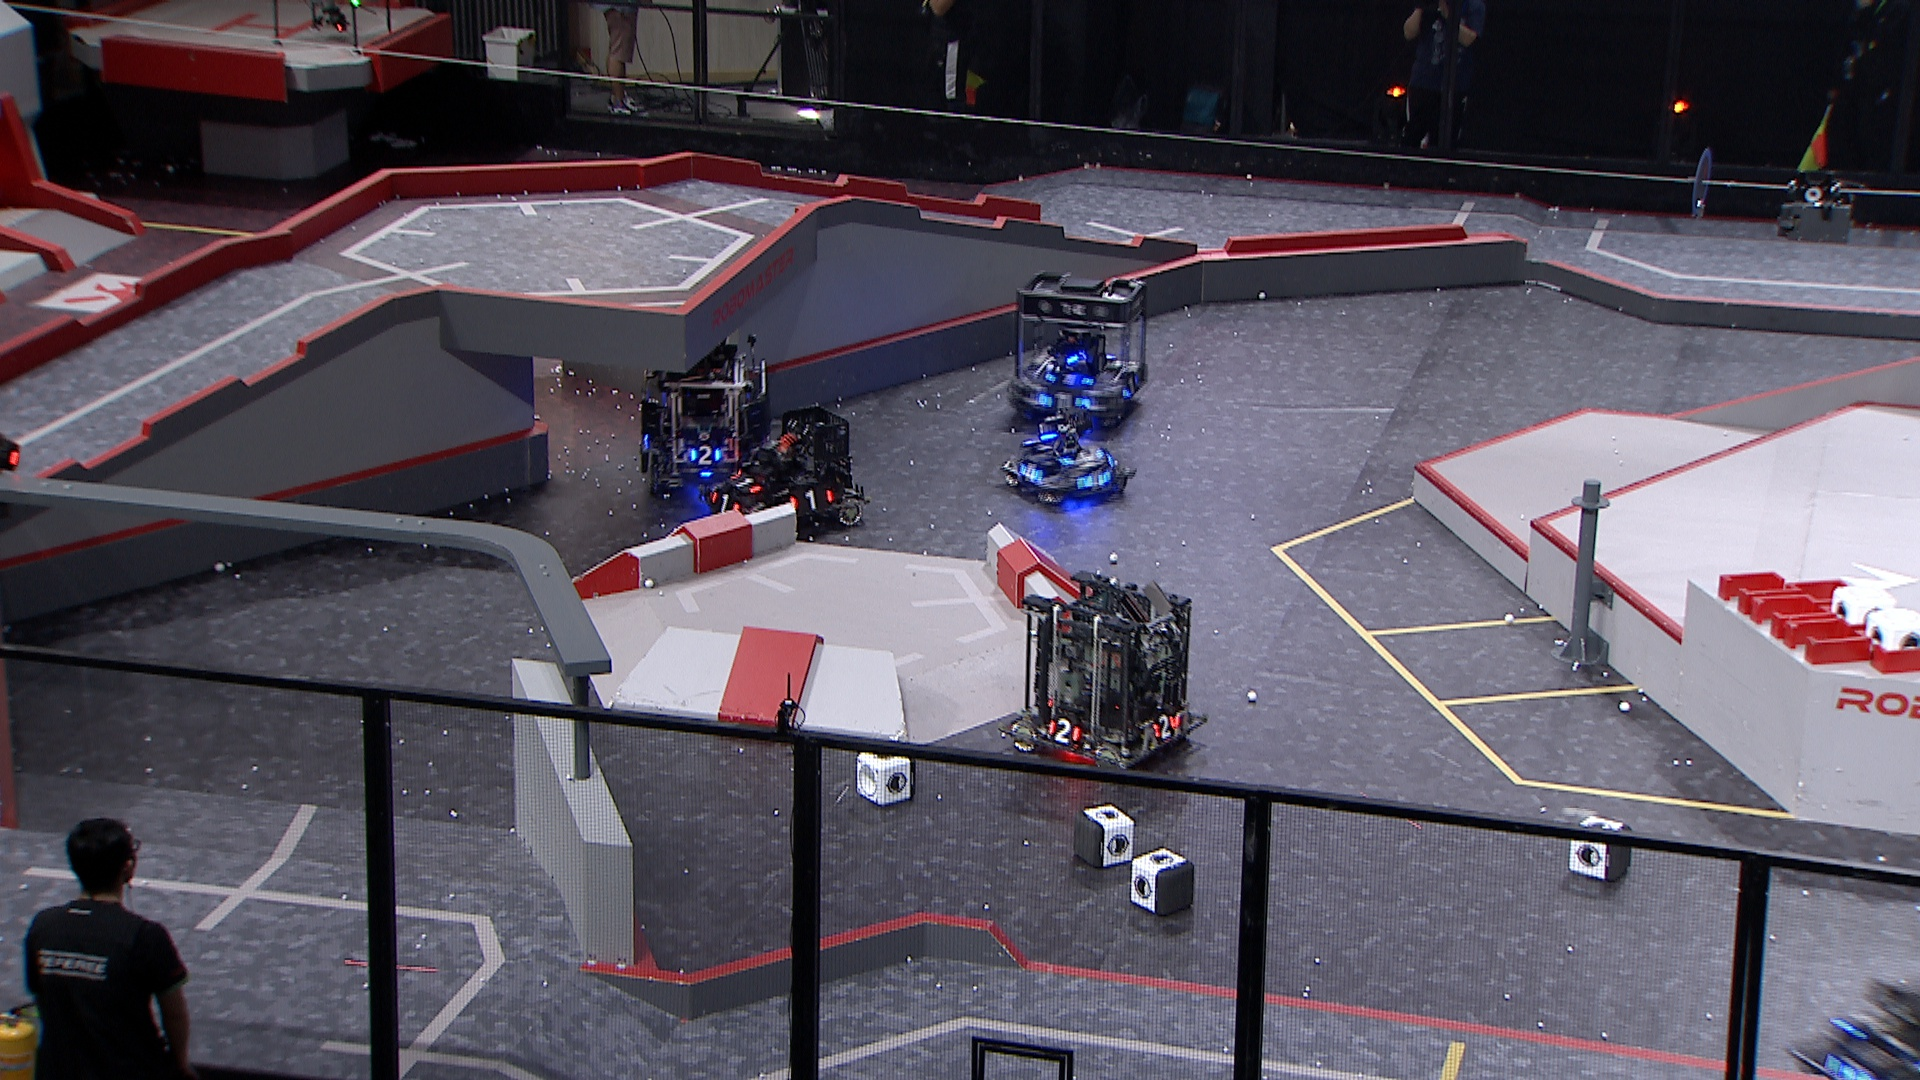armor: (789, 484, 835, 514), (1826, 1055, 1878, 1080), (1034, 392, 1091, 414), (1048, 713, 1083, 746), (1059, 448, 1105, 469), (1046, 371, 1092, 390), (1076, 472, 1116, 495), (711, 489, 744, 516), (731, 473, 765, 498), (690, 442, 723, 467), (1153, 713, 1178, 742), (1021, 462, 1044, 488), (1121, 375, 1139, 404)
car: (997, 570, 1209, 774), (636, 332, 774, 501), (1005, 272, 1153, 425), (704, 405, 870, 537), (1789, 975, 1920, 1080), (996, 410, 1139, 505)
